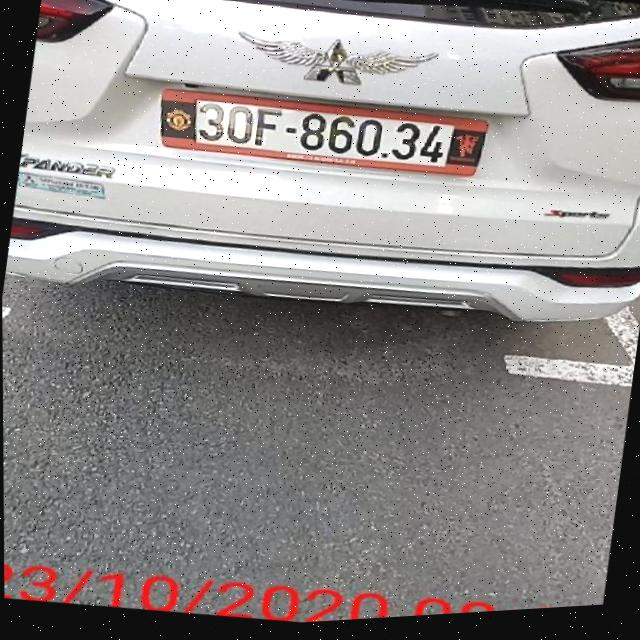car: (0, 0, 640, 385)
plate: (151, 59, 497, 203)
